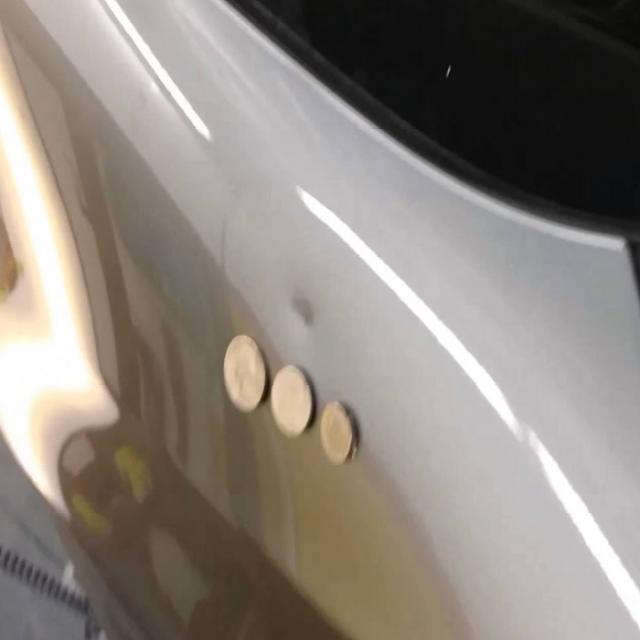dents: (278, 286, 329, 334)
